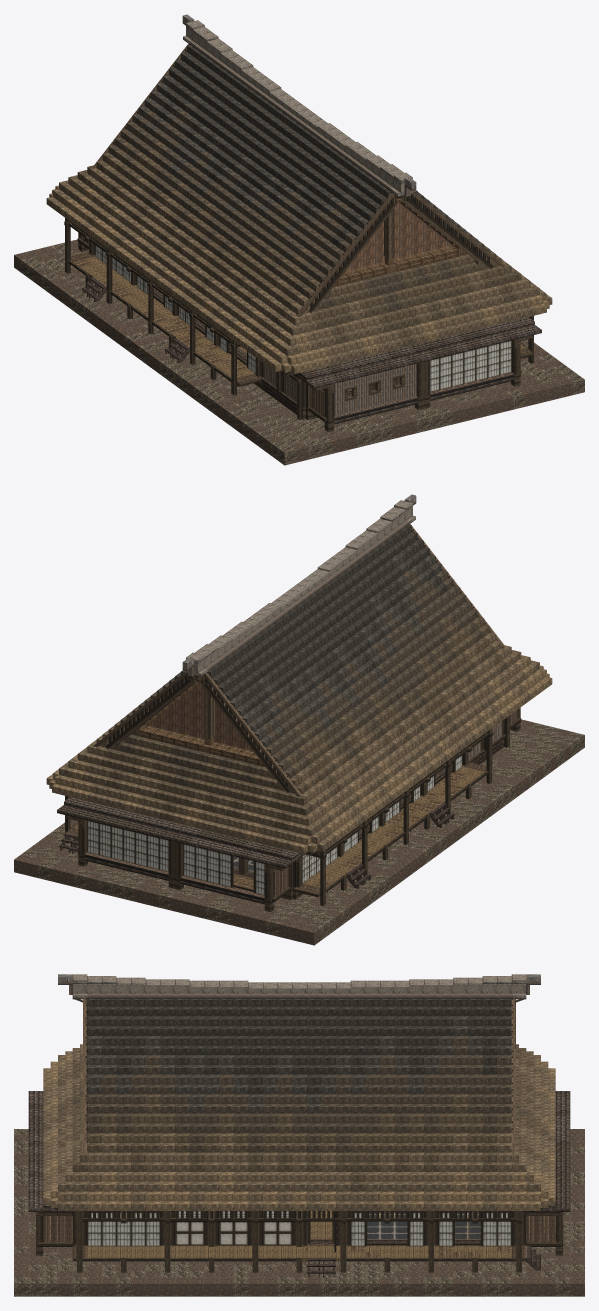
Rendered from house-minka.glb.
3 renders of one model, top to bottom at view 1: azimuth 30°, elevation 25°; view 2: azimuth 150°, elevation 25°; view 3: azimuth 270°, elevation 25°, orthographic. The views are drawn at different scales.
Visible parts, largest first — view 1: Object_14, Object_11, Object_13, Object_12, Object_77, Object_78, Object_19, Object_15, Object_71, Object_53, Object_52, Object_9 (+18 smaller); view 2: Object_14, Object_13, Object_11, Object_12, Object_77, Object_78, Object_19, Object_71, Object_15, Object_55, Object_9, Object_28 (+15 smaller); view 3: Object_13, Object_14, Object_12, Object_11, Object_77, Object_78, Object_19, Object_15, Object_40, Object_71, Object_8, Object_55 (+18 smaller).
Boxes of the visible parts, x1=… form: Object_14: x1=46, y1=157, x2=552, y2=364; Object_11: x1=77, y1=142, x2=521, y2=347; Object_13: x1=158, y1=44, x2=429, y2=247; Object_12: x1=108, y1=111, x2=490, y2=312; Object_77: x1=14, y1=239, x2=572, y2=462; Object_78: x1=21, y1=243, x2=584, y2=465; Object_19: x1=49, y1=185, x2=549, y2=373; Object_15: x1=132, y1=75, x2=313, y2=217; Object_71: x1=95, y1=245, x2=511, y2=391; Object_53: x1=64, y1=137, x2=521, y2=397; Object_52: x1=263, y1=363, x2=416, y2=416; Object_9: x1=183, y1=20, x2=412, y2=193; Object_14: x1=59, y1=632, x2=539, y2=851; Object_13: x1=169, y1=524, x2=447, y2=722; Object_11: x1=102, y1=616, x2=507, y2=830; Object_12: x1=120, y1=570, x2=483, y2=786; Object_77: x1=14, y1=719, x2=572, y2=945; Object_78: x1=21, y1=723, x2=584, y2=939; Object_19: x1=46, y1=655, x2=552, y2=853; Object_71: x1=87, y1=755, x2=461, y2=895; Object_15: x1=157, y1=595, x2=405, y2=747; Object_55: x1=65, y1=672, x2=520, y2=892; Object_9: x1=186, y1=500, x2=415, y2=673; Object_28: x1=147, y1=682, x2=252, y2=750; Object_13: x1=87, y1=998, x2=511, y2=1094; Object_14: x1=43, y1=1044, x2=555, y2=1210; Object_12: x1=72, y1=1036, x2=526, y2=1152; Object_11: x1=43, y1=1044, x2=555, y2=1191; Object_77: x1=14, y1=1129, x2=584, y2=1296; Object_78: x1=14, y1=1129, x2=584, y2=1296; Object_19: x1=43, y1=1054, x2=555, y2=1210; Object_15: x1=102, y1=1036, x2=511, y2=1113; Object_40: x1=43, y1=1211, x2=555, y2=1261; Object_71: x1=87, y1=1212, x2=511, y2=1246; Object_8: x1=72, y1=980, x2=526, y2=998; Object_55: x1=82, y1=1056, x2=545, y2=1272.
Size of the model in its own units: 25 by 18.38 by 39.
75 materials, 75 textured.
